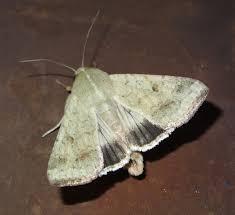Insects: (16, 5, 213, 194)
